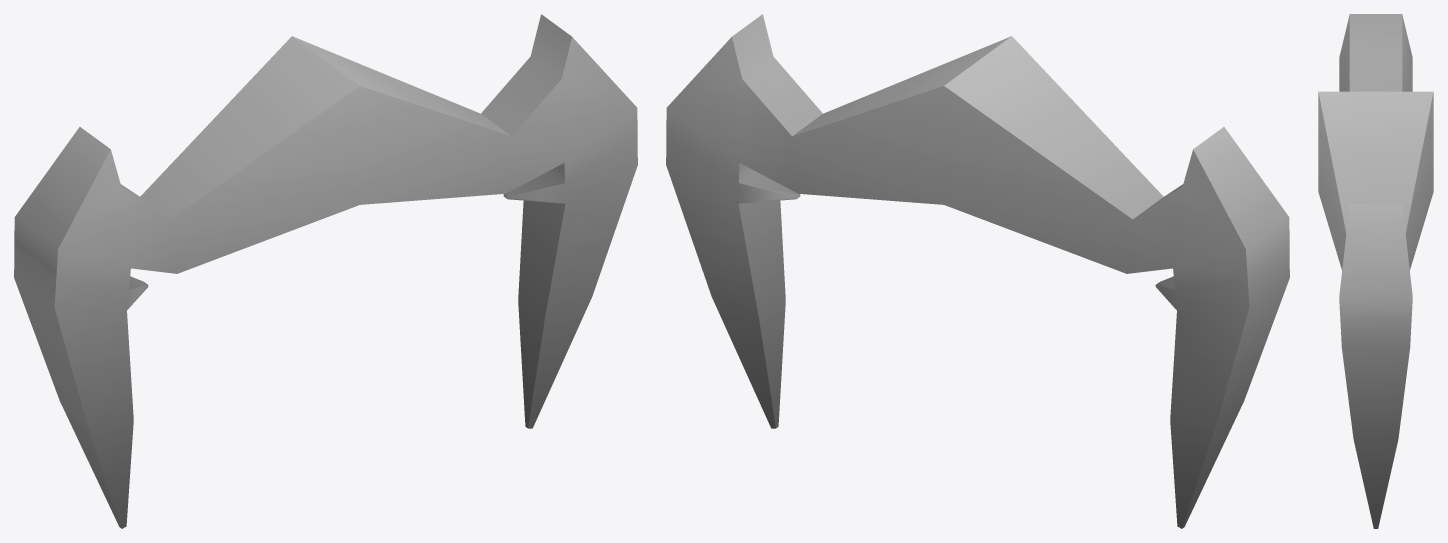
The model's file is stone_guard_052.glb.
3 views of the same model, side by side, from view 1: azimuth 30°, elevation 25°; view 2: azimuth 150°, elevation 25°; view 3: azimuth 270°, elevation 25° (orthographic). The views are drawn at different scales.
Visible parts, largest first — view 1: stone_guard.052; view 2: stone_guard.052; view 3: stone_guard.052.
Part boxes in pixels (x1,y1,x2,y2): stone_guard.052: (14, 14, 637, 528); stone_guard.052: (666, 14, 1289, 528); stone_guard.052: (1318, 14, 1433, 528).
Size of the model in its own units: 6.32 by 4.31 by 1.28.
Materials: 1 (1 with a texture image).
